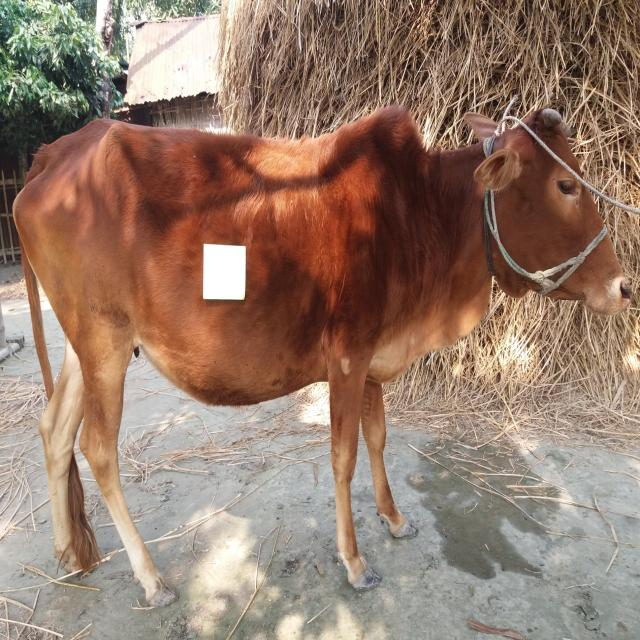badan_sapi: (54, 132, 370, 380)
sapi: (4, 99, 634, 614)
